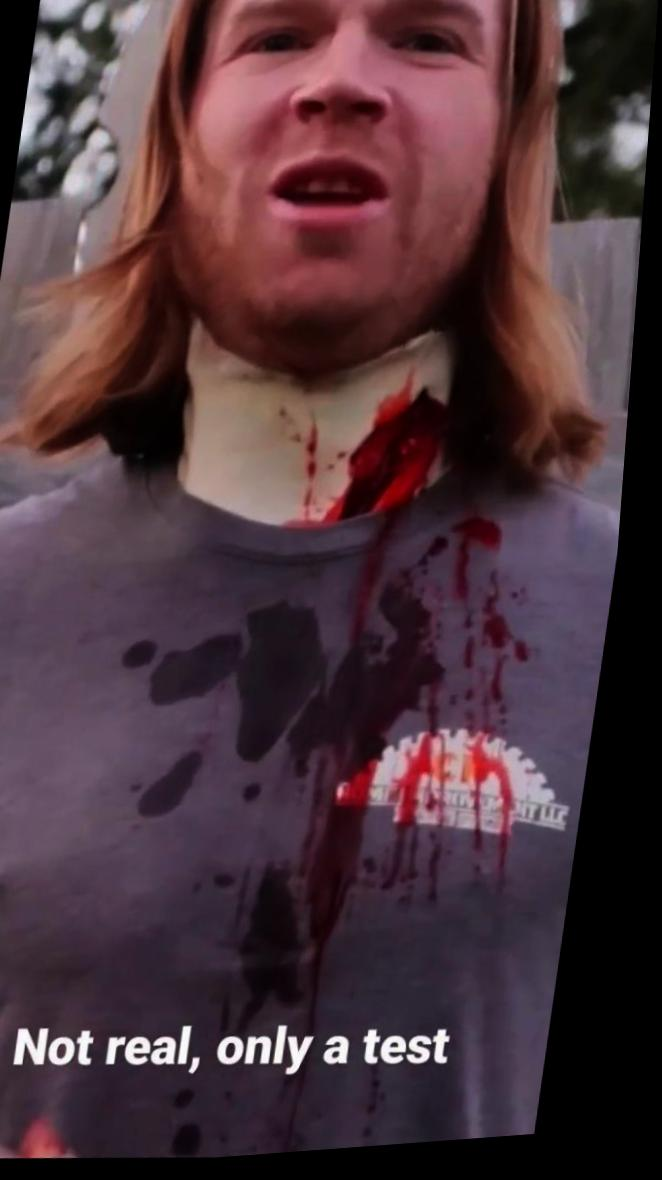Fire: (251, 485, 597, 1160), (294, 372, 454, 529)
